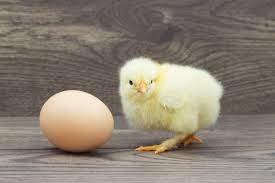Egg: (36, 84, 120, 160)
